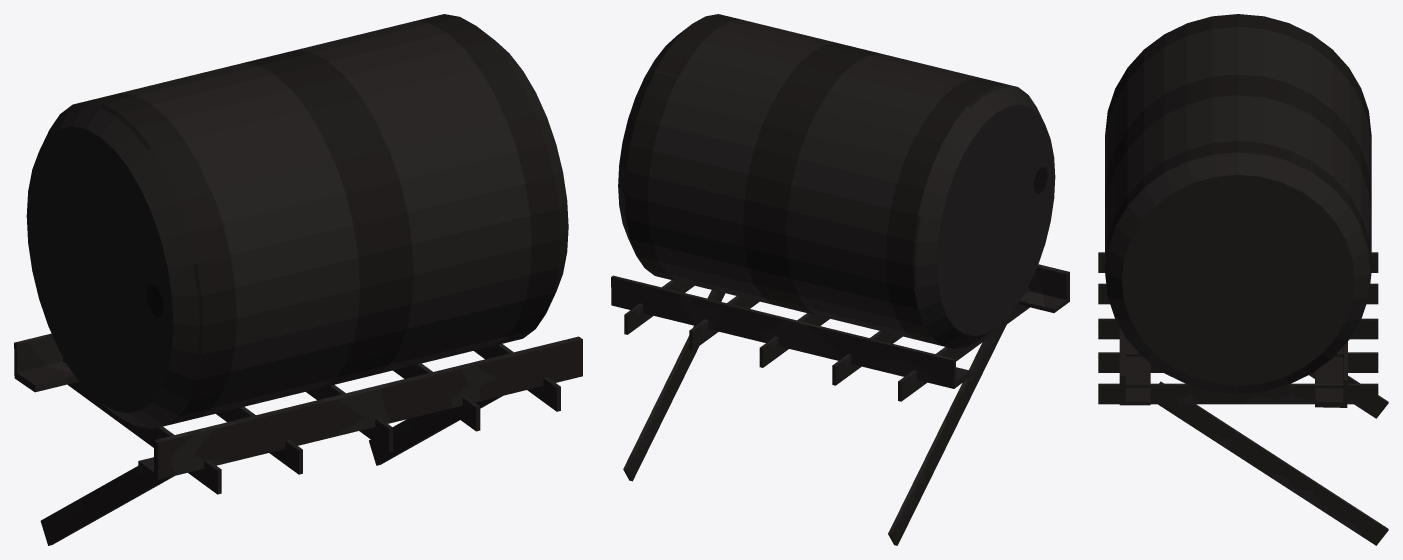
Rendered from industrialLiquidTankA.obj.
The picture shows the model from 3 angles, left to right: view 1: azimuth 30°, elevation 25°; view 2: azimuth 150°, elevation 25°; view 3: azimuth 270°, elevation 25°; orthographic projection. The views are drawn at different scales.
Visible parts, largest first — view 1: Cylinder, Cube, Cube.005, Cube.004, Cube.006, Cube.002, Cube.008, Cube.007, Cube.003, Cube.001; view 2: Cylinder, Cube.004, Cube.005, Cube.006, Cube, Cube.002, Cube.001, Cube.007, Cube.003, Cube.008; view 3: Cylinder, Cube.006, Cube.003, Cube, Cube.004, Cube.008, Cube.001, Cube.007, Cube.005.
Boxes of the visible parts, x1,y1,x2,y2 form: Cylinder: (26, 14, 568, 429); Cube: (138, 336, 582, 479); Cube.005: (40, 457, 174, 545); Cube.004: (14, 333, 78, 392); Cube.006: (369, 396, 502, 465); Cube.002: (63, 357, 221, 494); Cube.008: (393, 363, 480, 431); Cube.007: (216, 406, 302, 474); Cube.003: (473, 344, 560, 411); Cube.001: (306, 384, 392, 452); Cylinder: (618, 14, 1055, 348); Cube.004: (611, 275, 970, 388); Cube.005: (888, 325, 1006, 545); Cube.006: (623, 290, 725, 481); Cube: (1018, 264, 1069, 312); Cube.002: (898, 288, 1029, 401); Cube.001: (759, 313, 829, 367); Cube.007: (832, 331, 902, 385); Cube.003: (624, 280, 694, 334); Cube.008: (689, 296, 759, 350); Cylinder: (1105, 14, 1371, 393); Cube.006: (1158, 381, 1388, 545); Cube.003: (1098, 383, 1378, 404); Cube: (1119, 327, 1150, 405); Cube.004: (1315, 341, 1347, 407); Cube.008: (1098, 352, 1378, 372); Cube.001: (1098, 318, 1378, 339); Cube.007: (1098, 283, 1378, 304); Cube.005: (1309, 373, 1388, 418).
Bounding box in the file's own units: 2.92 × 3.29 × 2.18.
Materials: 10 (10 with a texture image).
